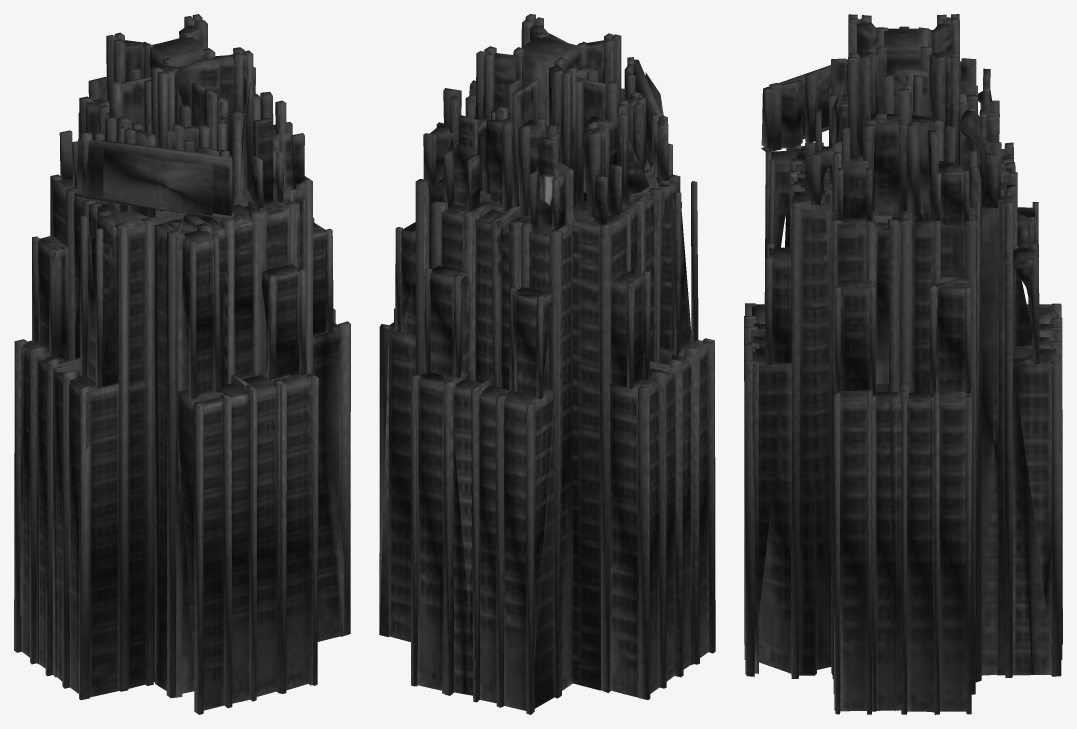
File: hotel_tower.glb
3 views of the same model, side by side, from view 1: azimuth 30°, elevation 25°; view 2: azimuth 150°, elevation 25°; view 3: azimuth 270°, elevation 25° (orthographic).
Bounding box in the file's own units: 0.4739 × 1 × 0.4736.
1 material, 1 textured.
